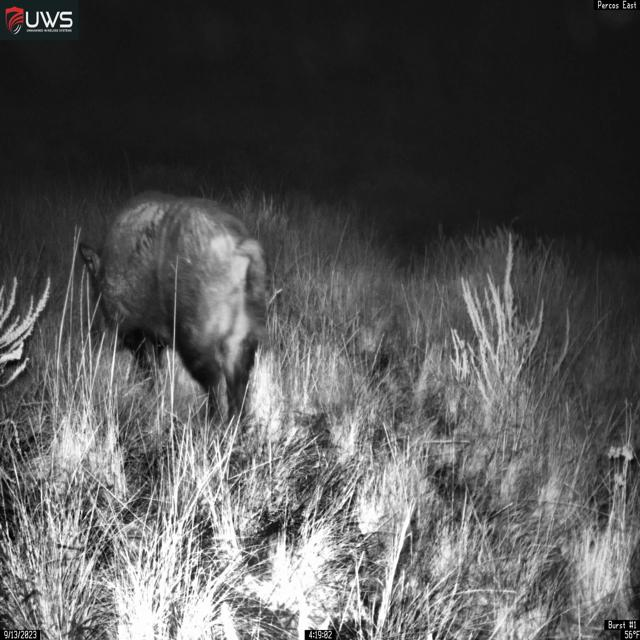pig: (78, 190, 272, 433)
